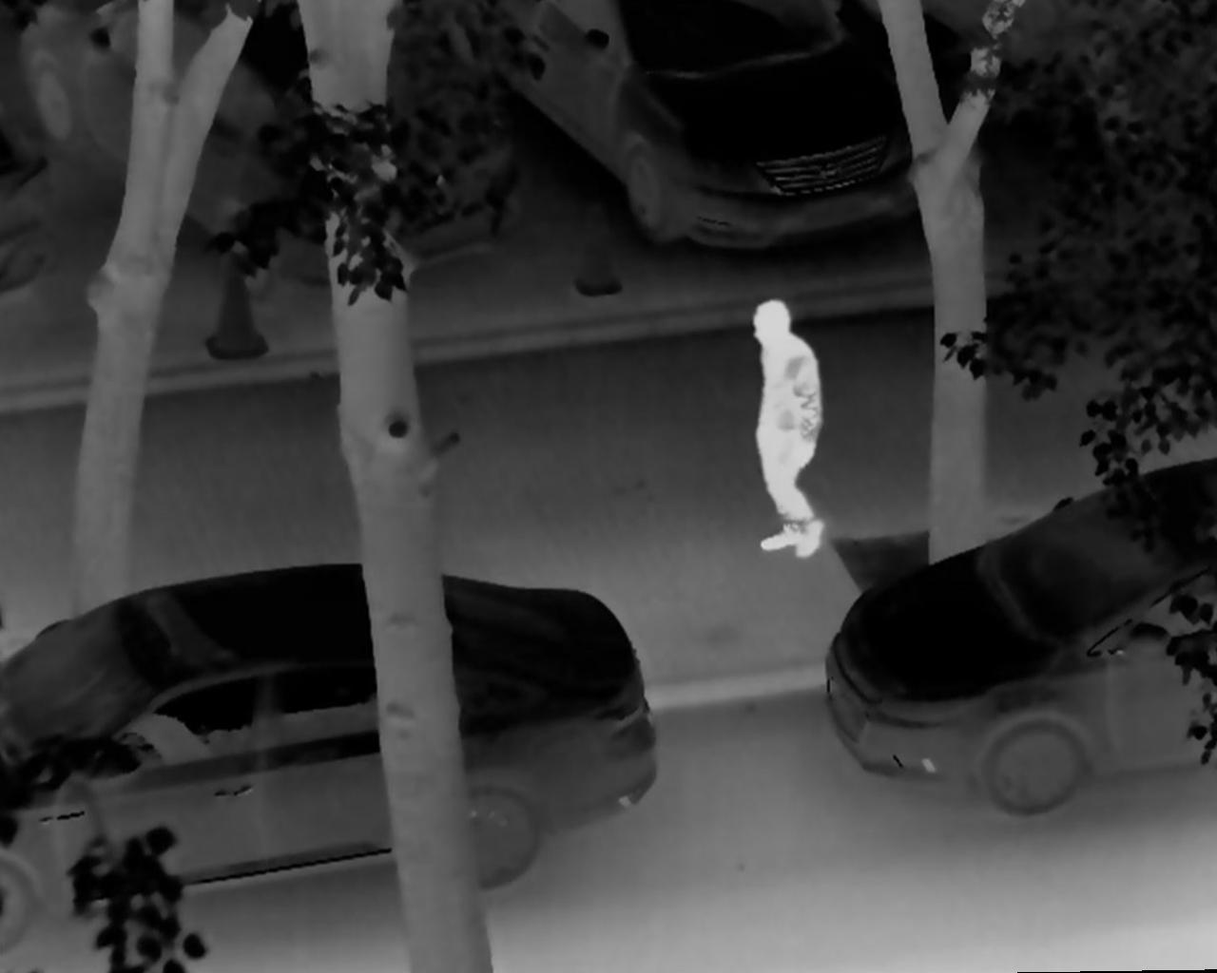person: (735, 300, 835, 558)
